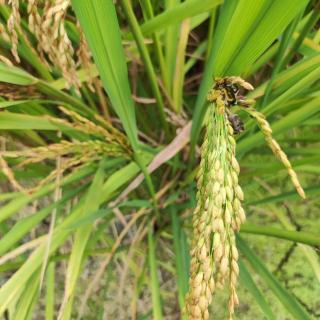Gosong-Palsu: (215, 77, 241, 107), (223, 111, 247, 135)
